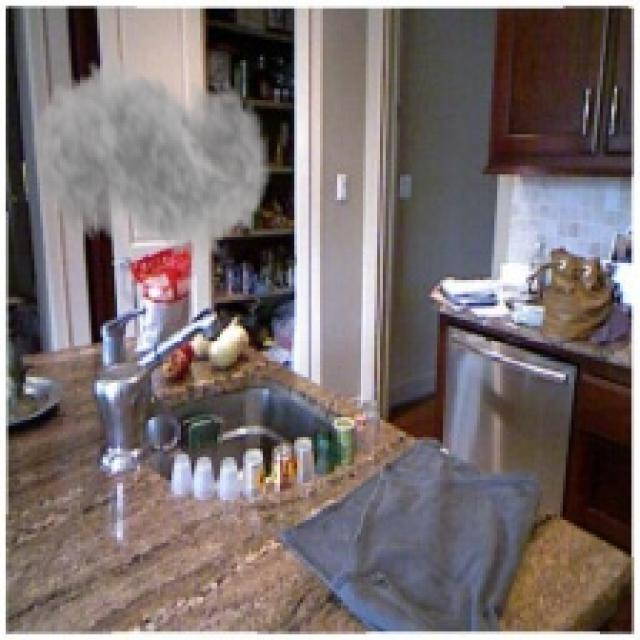smoke: (32, 37, 272, 286)
